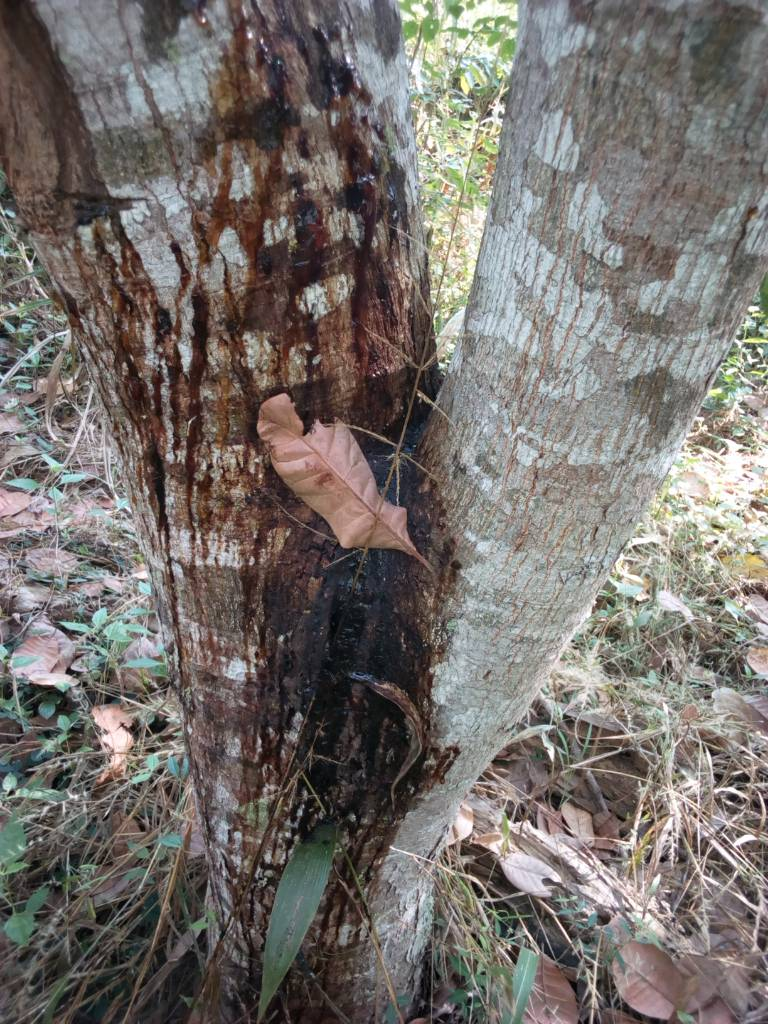Gommose: (91, 25, 427, 1010)
